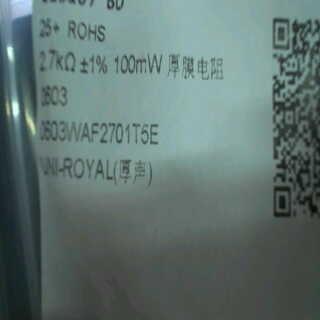2.7kR: (34, 48, 77, 77)
